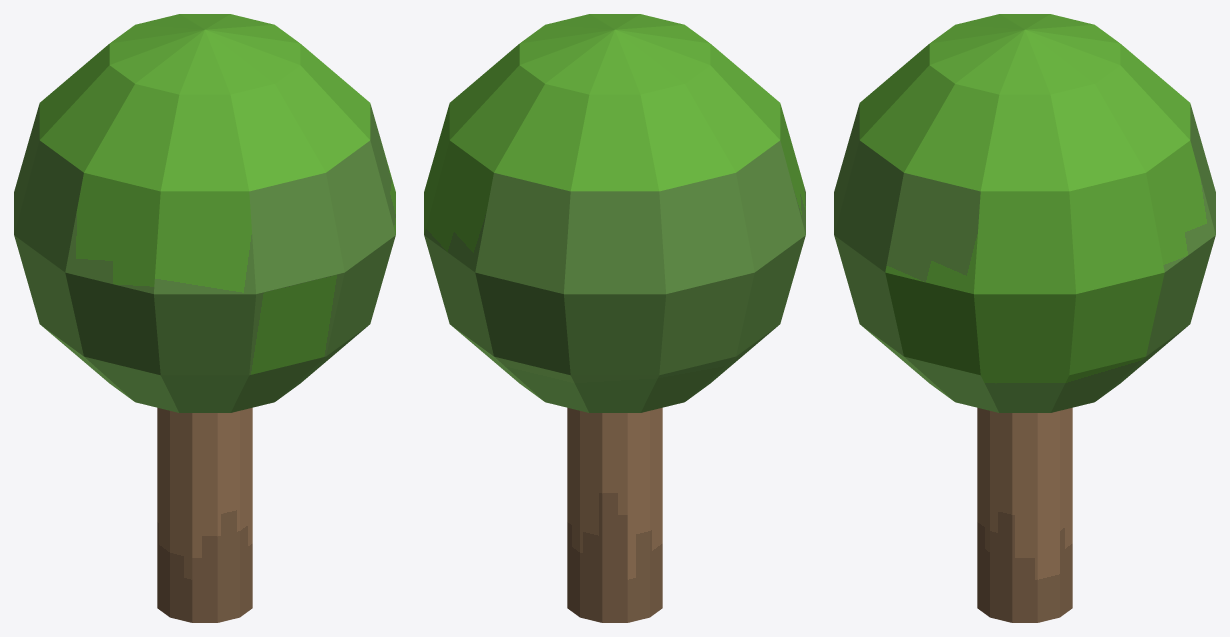
File: Tree01.fbx
3 views of the same model, side by side, from view 1: azimuth 30°, elevation 25°; view 2: azimuth 150°, elevation 25°; view 3: azimuth 270°, elevation 25° (orthographic).
Parts seen in each view (by area): view 1: sphere, cylinder; view 2: sphere, cylinder; view 3: sphere, cylinder.
Boxes of the visible parts, bbox=[...] form: sphere: bbox=[14, 14, 395, 412]; cylinder: bbox=[157, 407, 252, 622]; sphere: bbox=[424, 14, 805, 412]; cylinder: bbox=[567, 407, 662, 622]; sphere: bbox=[834, 14, 1215, 412]; cylinder: bbox=[977, 407, 1072, 622].
Size of the model in its own units: 100 by 166 by 100.
2 materials, 2 textured.
